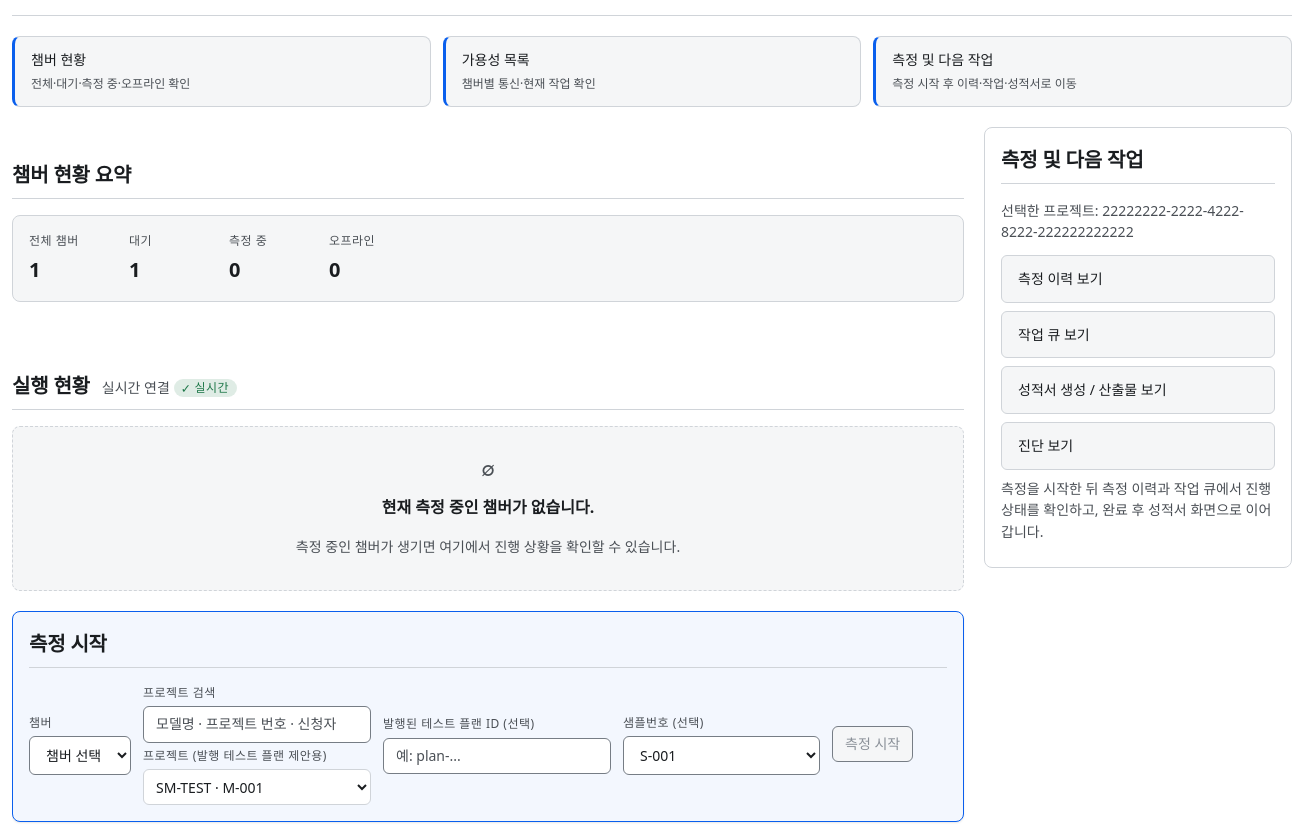
Test: chamber start failure recovery guidance › links to measurement history on a 409 not-idle conflict
Expected: the form with test id "chambers-start-form" is shown, [29,684,947,805]
Select "Free" in the dropdown with test id "chambers-start-select": (80, 756) [29,736,131,775]
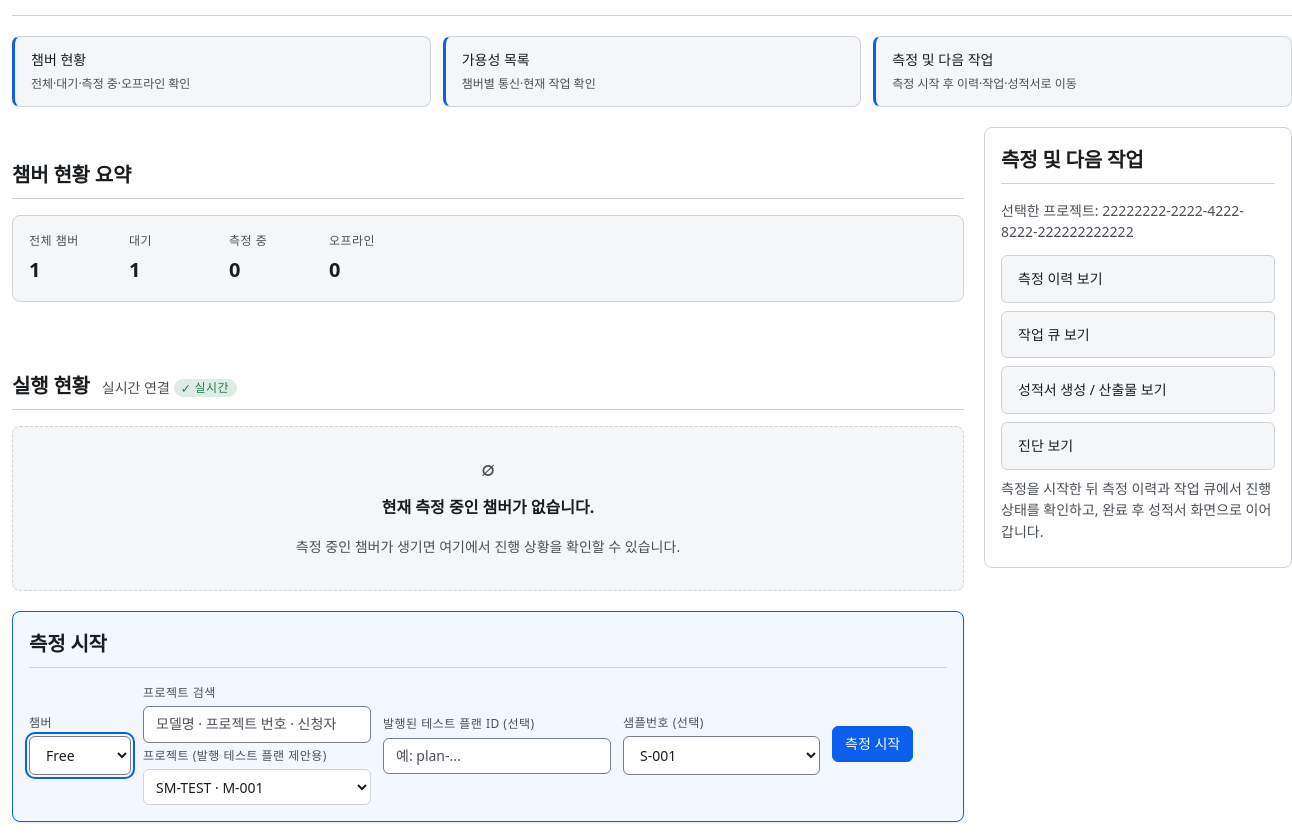
Click the button with test id "chambers-start-submit": (873, 744) [832,726,913,762]
(page scrolled)
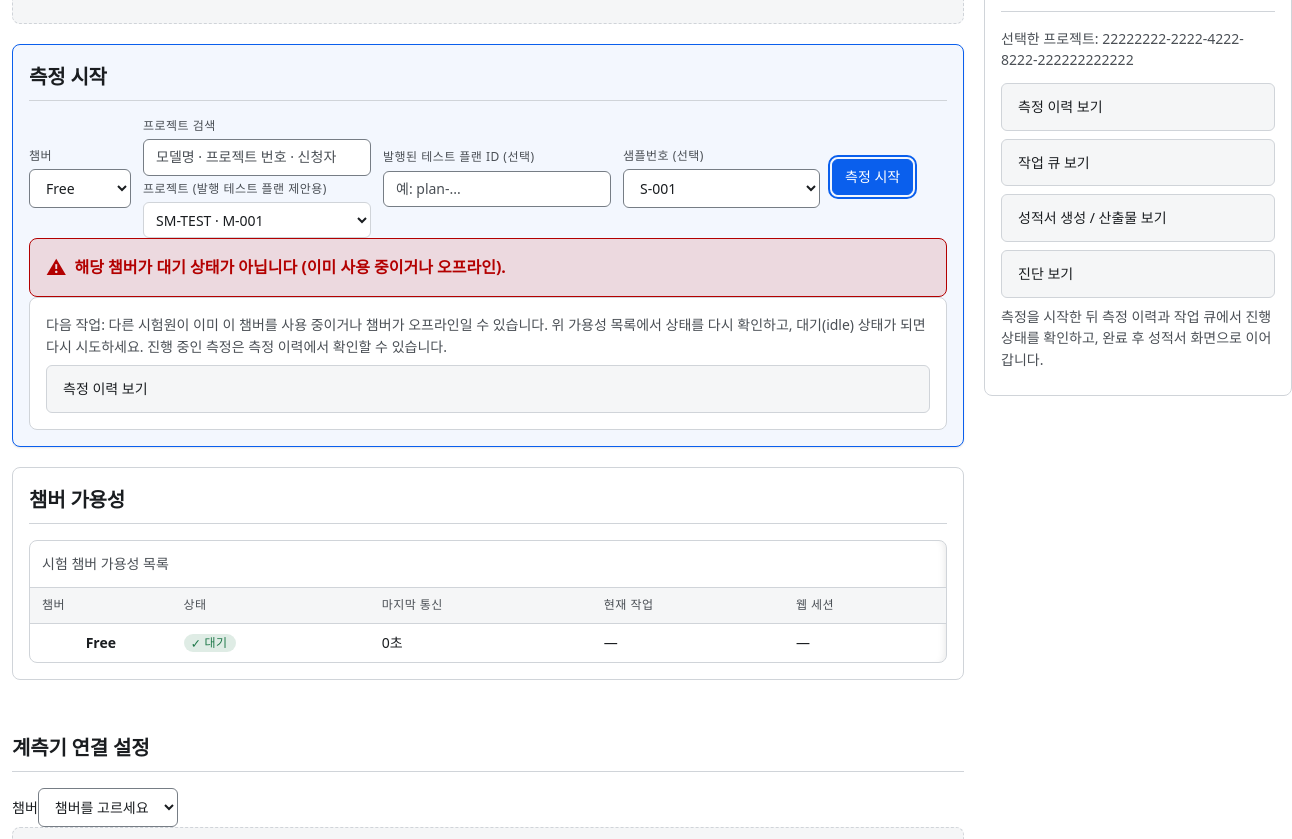
Expected: the message "해당 챔버가 대기 상태가 아닙니다 (이미 사용 중이거나 오프라인)." is shown, [29,238,947,297]
